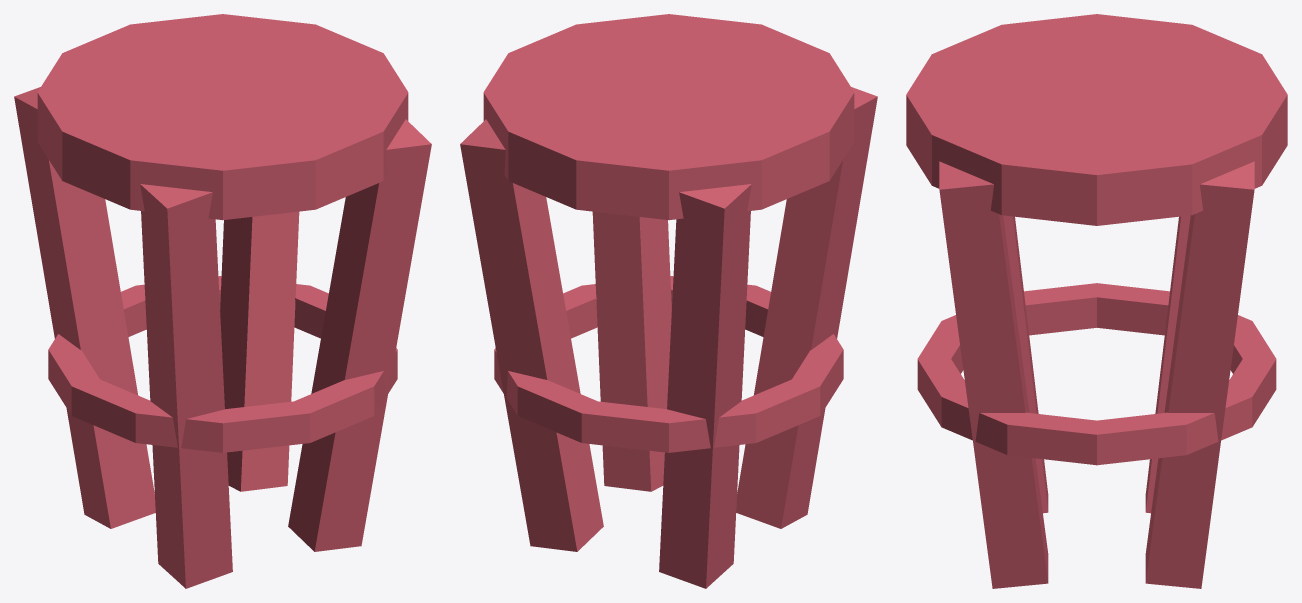
The model's file is indian-bazaar-street-and-temple-plastic-stool-27698407__36565.glb.
3 renders of one model, left to right at view 1: azimuth 30°, elevation 25°; view 2: azimuth 150°, elevation 25°; view 3: azimuth 270°, elevation 25°, orthographic. The views are drawn at different scales.
Visible parts, largest first — view 1: plastic-stool-crimson; view 2: plastic-stool-crimson; view 3: plastic-stool-crimson.
Part boxes in pixels (<box>): plastic-stool-crimson: <box>14,14,431,588</box>; plastic-stool-crimson: <box>460,14,877,588</box>; plastic-stool-crimson: <box>906,14,1287,588</box>.
Bounding box in the file's own units: 0.34 × 0.443 × 0.34.
